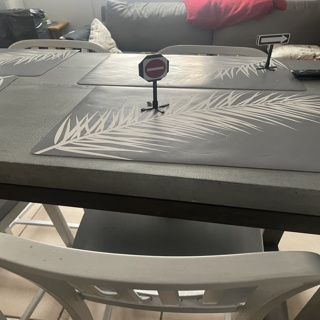sign_noentry: (139, 55, 167, 79)
sign_oneway_right: (254, 30, 287, 44)
